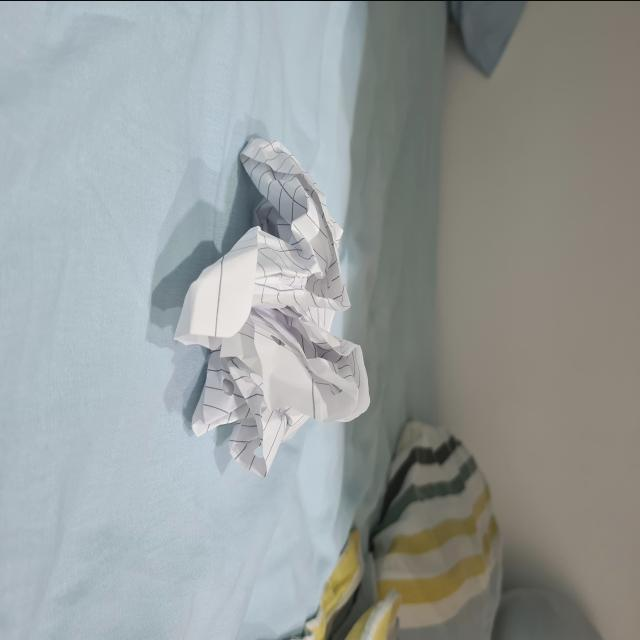Paper: (158, 98, 385, 490)
